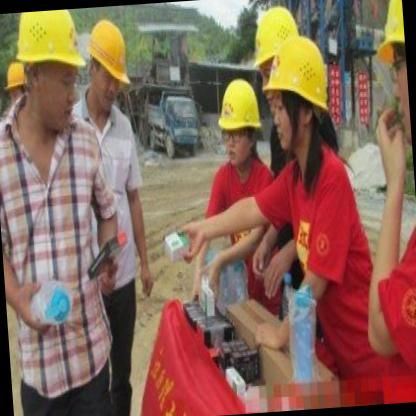helmet: (11, 9, 96, 139), (262, 26, 335, 159), (79, 13, 138, 127), (374, 1, 413, 155), (216, 73, 273, 178), (252, 5, 309, 89), (3, 58, 33, 117)
